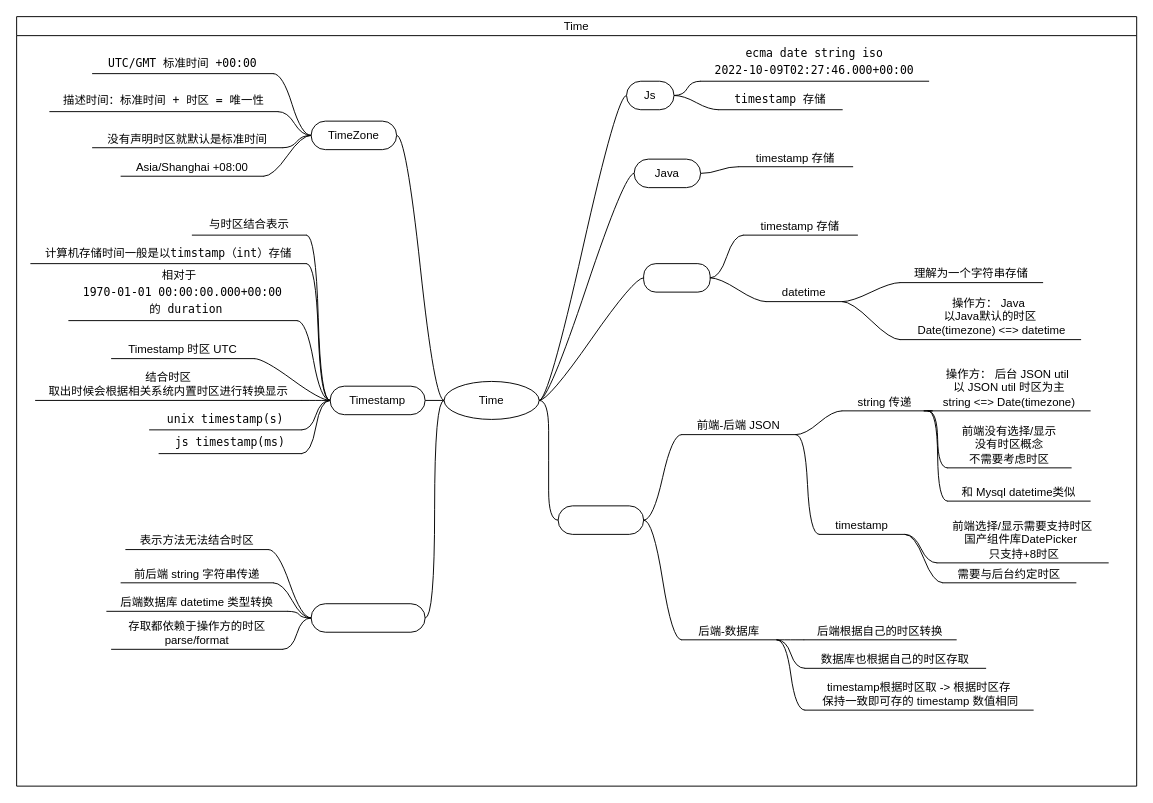
This 1153x803 diagram has some shape labels left out. The shapes that lost their labels are listed below. From the top down, each one's box as (x1, y1, x2, y2) in pixels, then its label:
(643, 263, 710, 292): MySql
(557, 505, 644, 534): 多端转换
(310, 603, 425, 632): 无时区时间表示
